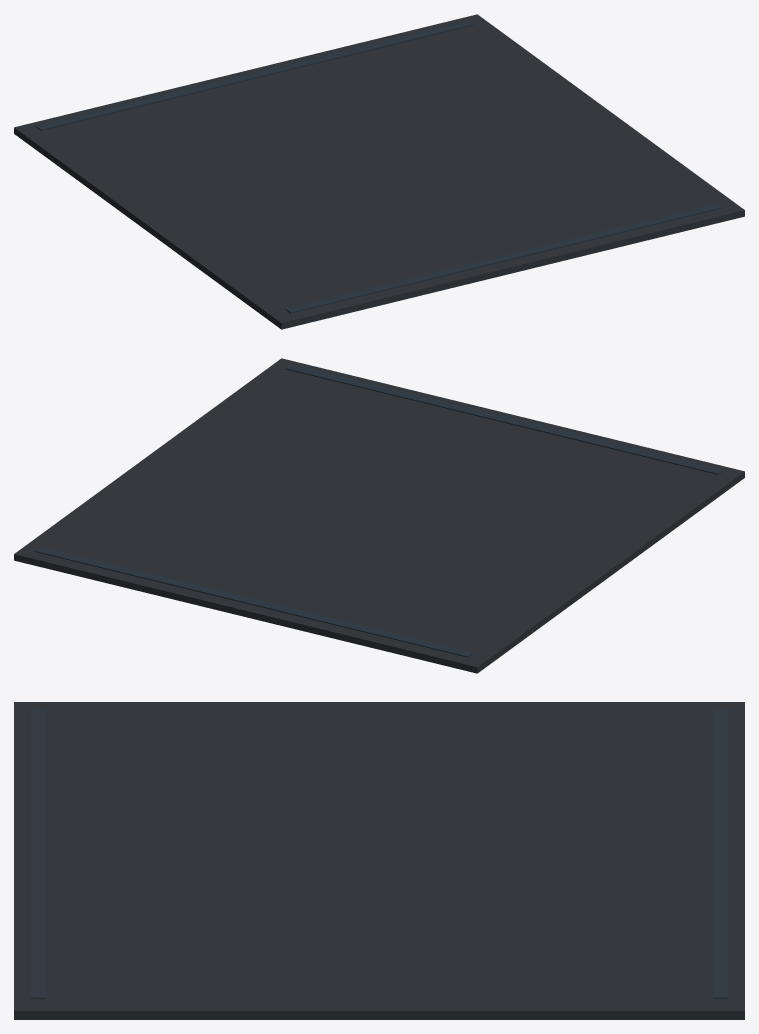
File: floor.subroom_tile_6x6.glb
The picture shows the model from 3 angles, top to bottom: view 1: azimuth 30°, elevation 25°; view 2: azimuth 150°, elevation 25°; view 3: azimuth 270°, elevation 25°; orthographic projection. The views are drawn at different scales.
Visible parts, largest first — view 1: floor_slab, room_border_a, room_border_b; view 2: floor_slab, room_border_a, room_border_b; view 3: floor_slab, room_border_a, room_border_b.
Boxes of the visible parts, x1,y1,x2,y2 form: floor_slab: (14,14,744,329); room_border_a: (35,20,473,130); room_border_b: (285,203,723,313); floor_slab: (14,358,744,673); room_border_a: (35,547,473,657); room_border_b: (285,364,723,474); floor_slab: (14,702,744,1019); room_border_a: (713,709,727,999); room_border_b: (31,709,45,999).
Size of the model in its own units: 6 by 0.108 by 6.
